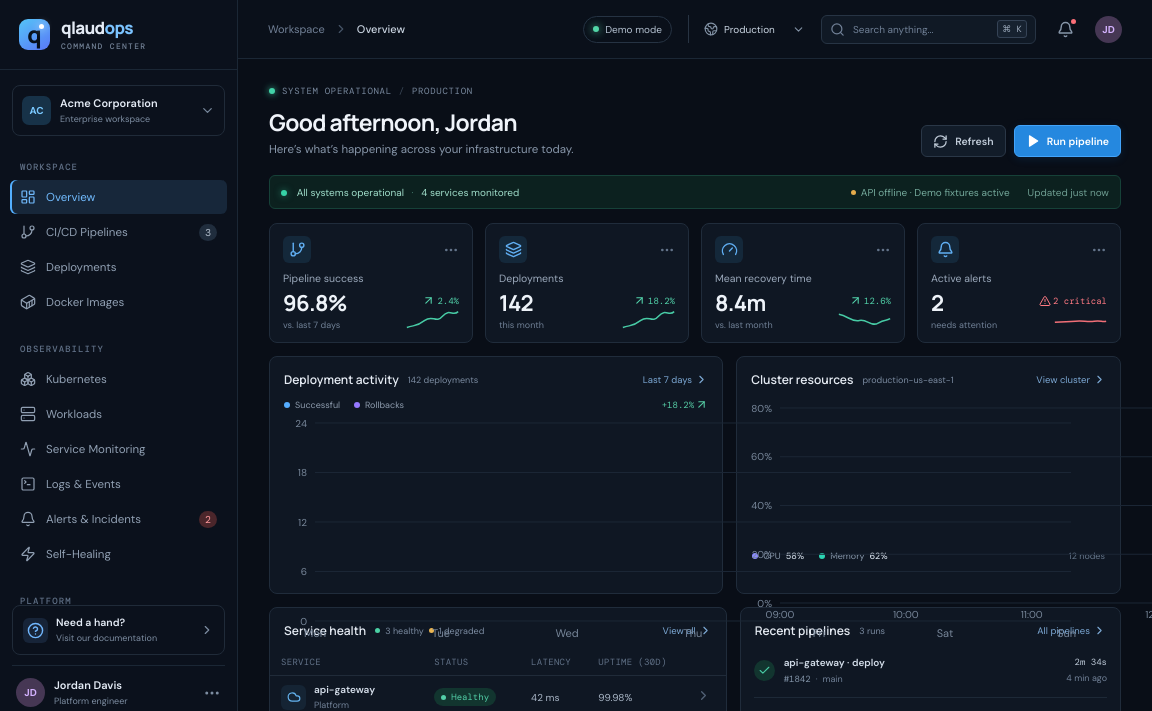
it: QlaudOps command center › requires a second explicit action to confirm demo rollback
The width and height of the screenshot is (1152, 711).
Step 1. Click the button "Deployments" → (118, 267), box [10,250,227,284]
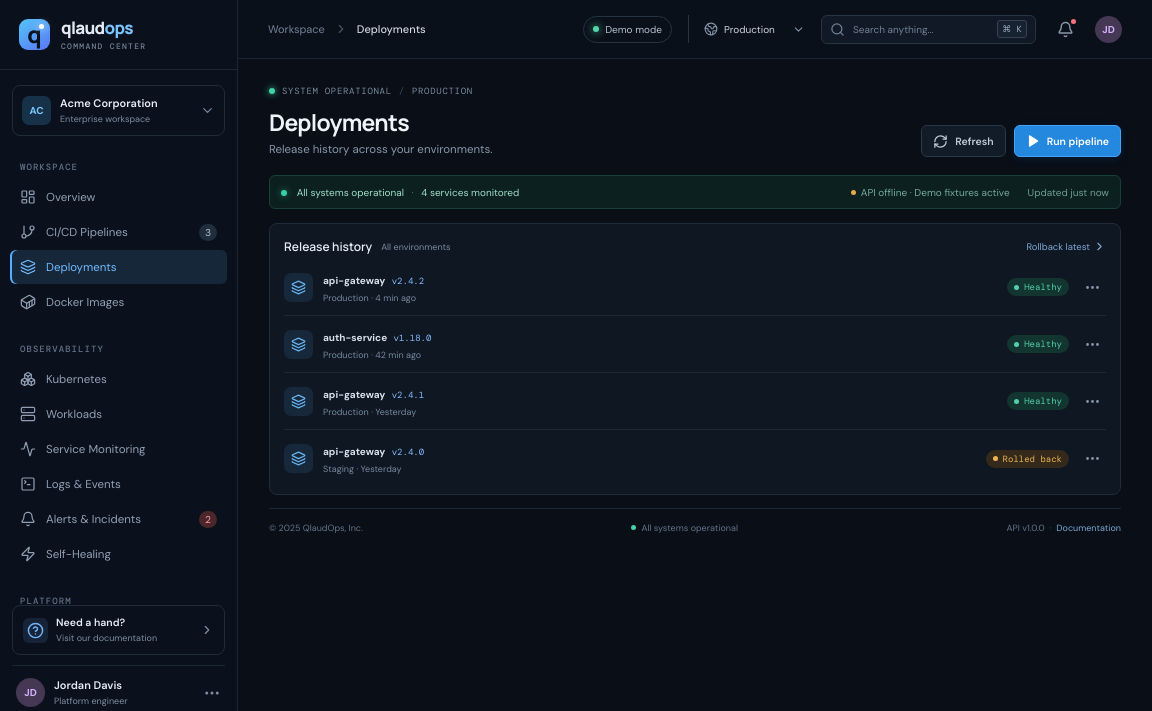
Step 2. Click the button "Rollback latest" → (1066, 246), box [1026,237,1106,256]
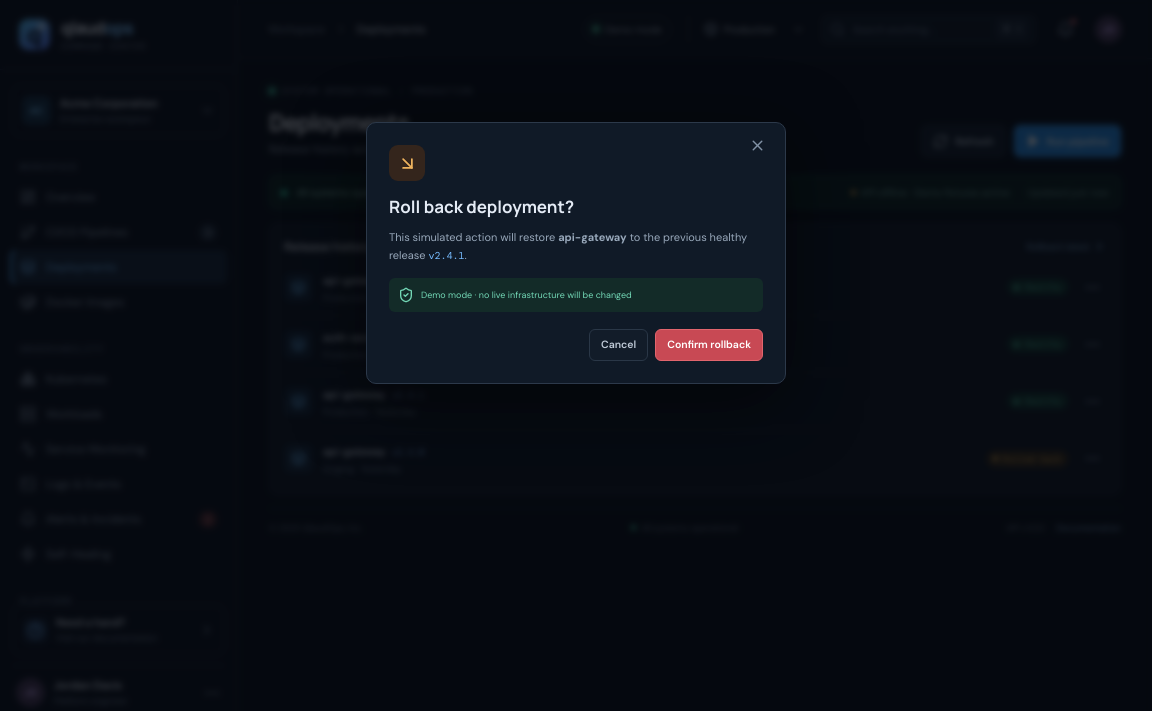
Now the text "Demo mode · no live infrastructure will be changed" is shown, box [389,278,763,312]
Now the button "Confirm rollback" is shown, box [655,329,763,361]
